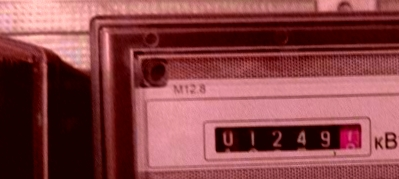0: (221, 127, 235, 147)
1: (246, 127, 257, 147)
2: (270, 128, 284, 148)
4: (295, 127, 307, 146)
7: (343, 123, 356, 142)
9: (318, 128, 332, 149)
screen: (195, 113, 371, 162)
